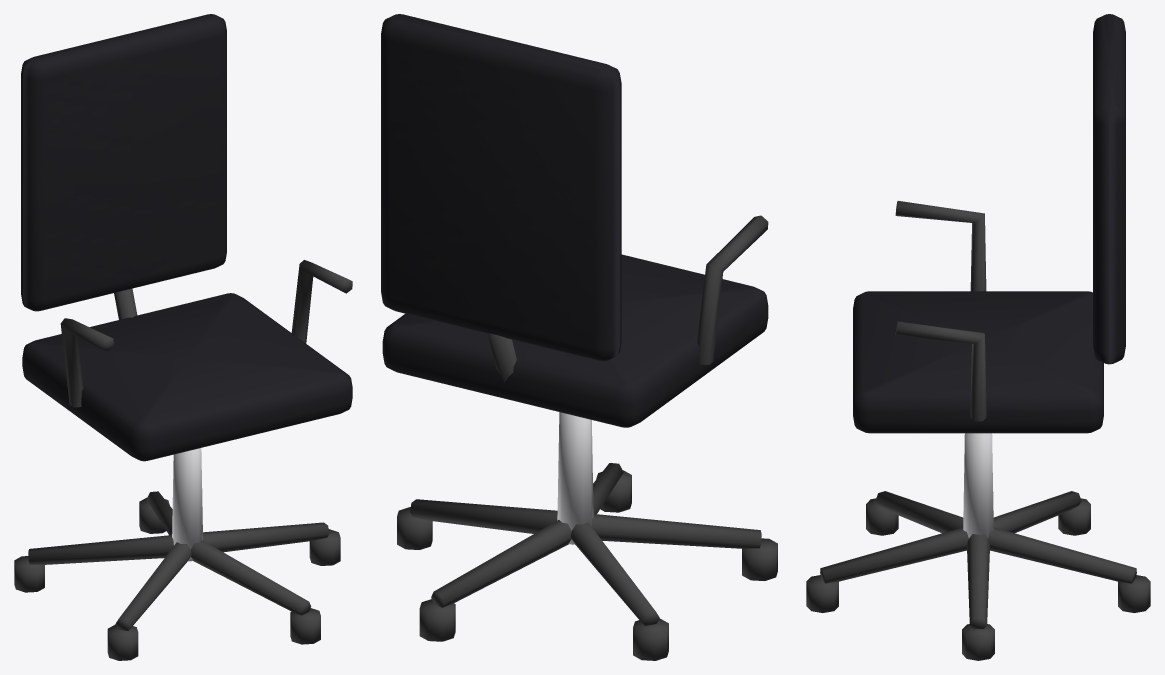
File: office_chair.glb
The picture shows the model from 3 angles, left to right: view 1: azimuth 30°, elevation 25°; view 2: azimuth 150°, elevation 25°; view 3: azimuth 270°, elevation 25°; orthographic projection. The views are drawn at different scales.
Parts seen in each view (by area): view 1: OfficeChair; view 2: OfficeChair; view 3: OfficeChair.
Part boxes in pixels (box(x1,y1,x2,y2)): OfficeChair: box(14, 14, 352, 660); OfficeChair: box(381, 14, 777, 660); OfficeChair: box(806, 14, 1150, 660).
Bounding box in the file's own units: 0.6036 × 1.06 × 0.6306.
Materials: 3 (1 with a texture image).
